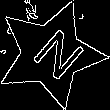N_SW: (18, 21, 83, 86)
